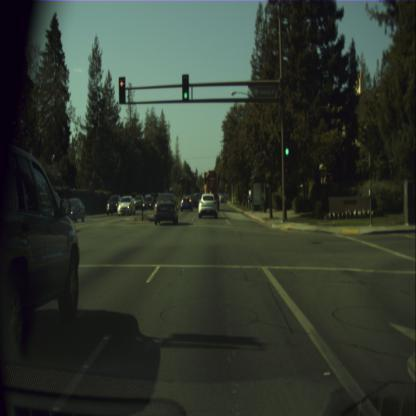Green: (181, 73, 188, 101), (284, 130, 288, 159)
RedLeft: (118, 76, 125, 103)
